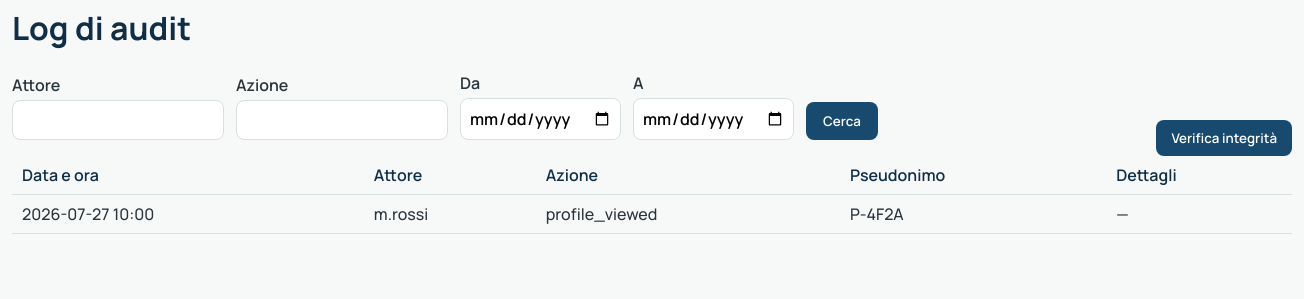
Scenario: «Verifica integrità»: red badge with the broken row on a tampered chain
Expected: the text "profile_viewed" is shown, [536,194,840,233]
Step 1. Click the button "Verifica integrità" → {"x": 1224, "y": 138}, box [1156,120,1292,156]
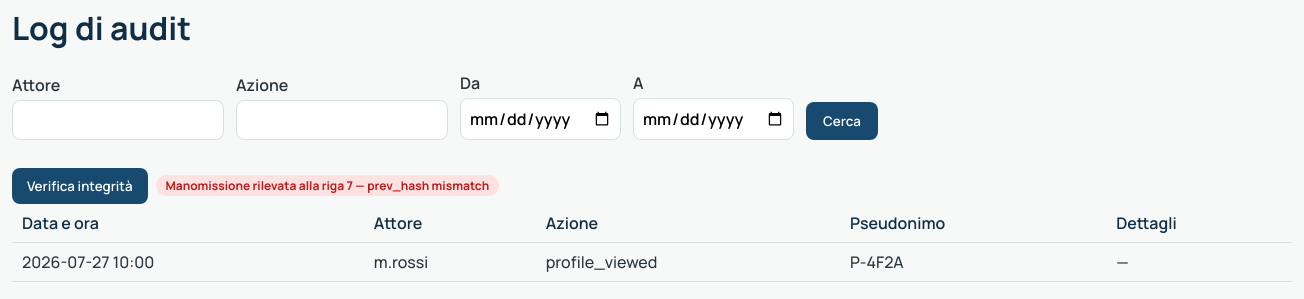
Now the text "Manomissione rilevata alla riga 7 — prev_hash mismatch" is shown, box [156,175,499,196]
